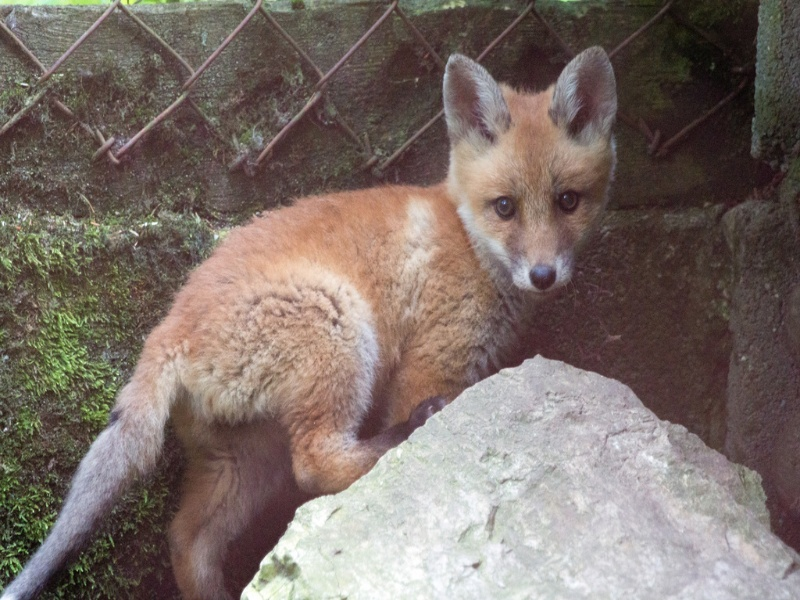fox: (11, 45, 618, 599)
